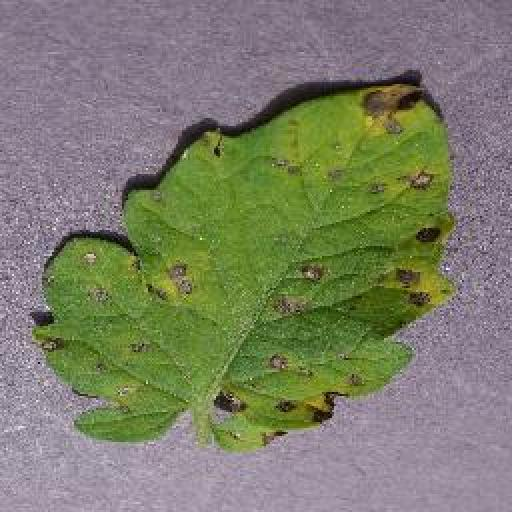disease_tomato: (38, 72, 460, 451)
